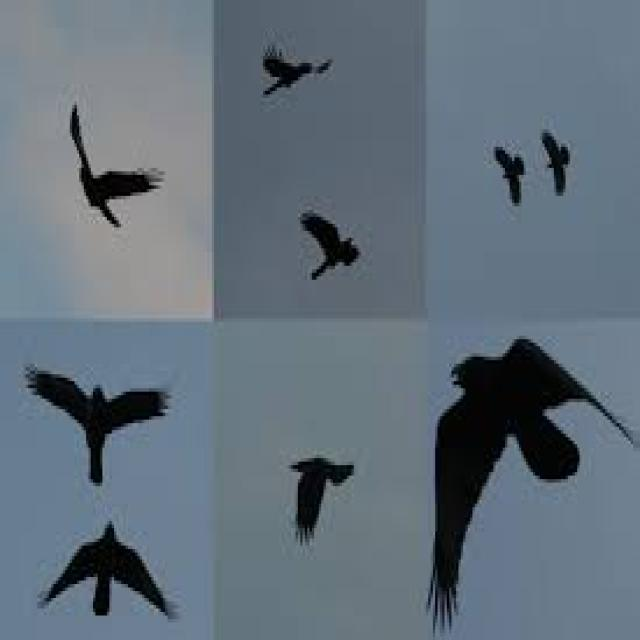bird: (426, 322, 637, 640), (8, 366, 198, 494), (35, 503, 186, 628), (66, 94, 172, 252), (282, 441, 352, 552), (289, 203, 375, 287), (260, 50, 344, 116), (541, 108, 579, 208), (490, 130, 533, 217)
